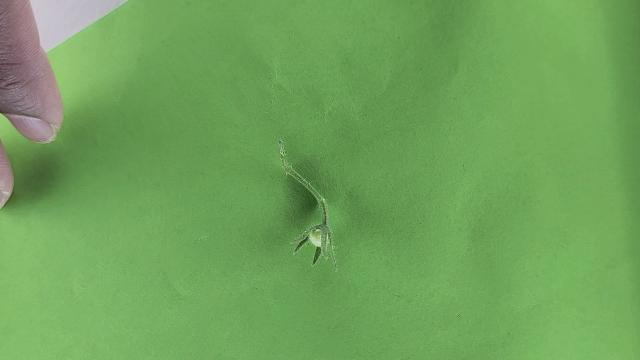Fruit Bud: (289, 202, 336, 270)
